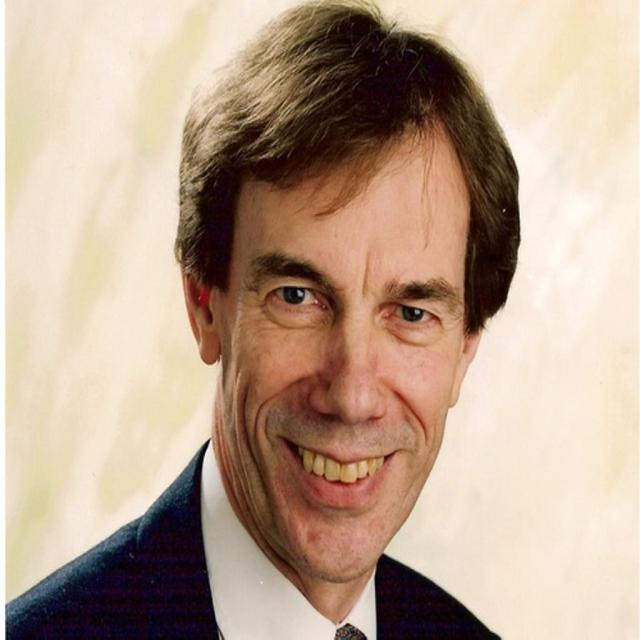Face: (214, 137, 498, 585)
